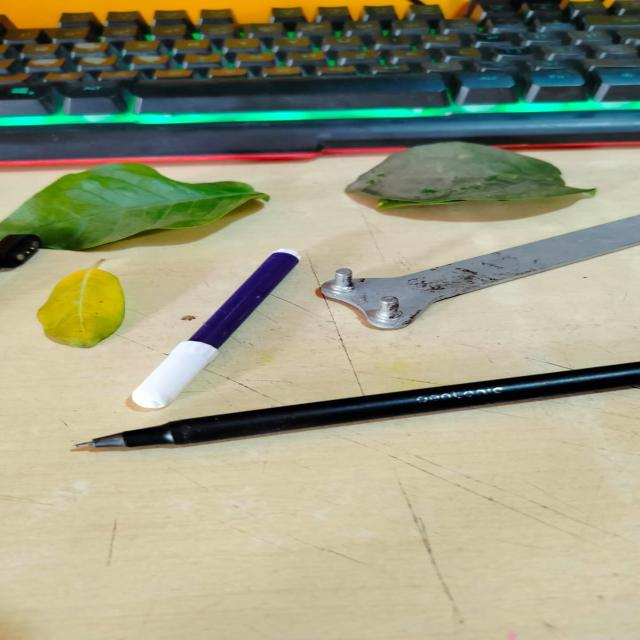Leaves: (0, 168, 263, 252), (347, 143, 564, 205), (39, 265, 122, 351)
Metal: (318, 212, 640, 332)
Pen: (78, 362, 640, 454), (124, 250, 299, 412)
